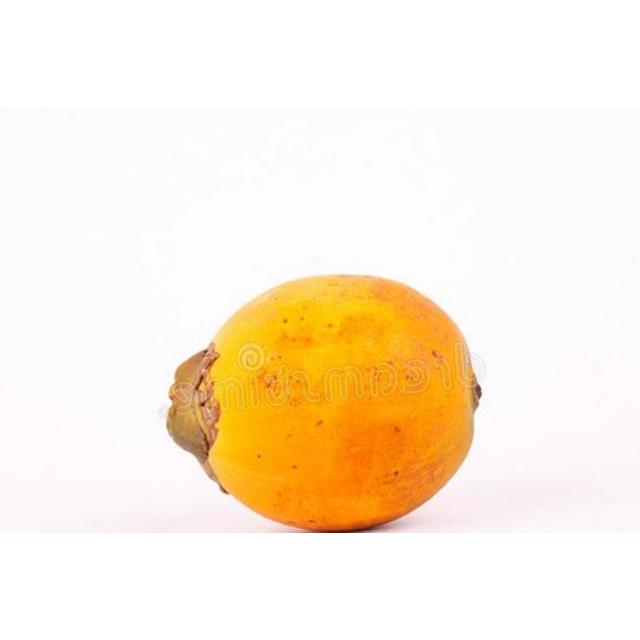good: (167, 275, 483, 533)
